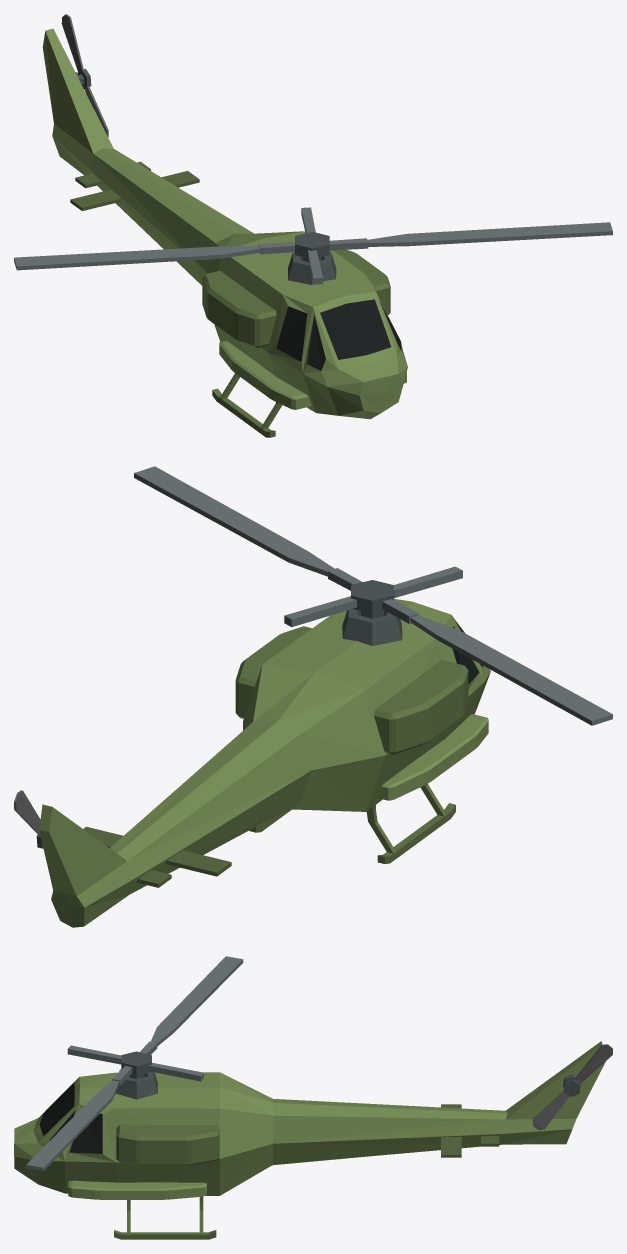
Rendered from Helicopter.FBX.
3 views of the same model, one above another, from view 1: azimuth 30°, elevation 25°; view 2: azimuth 150°, elevation 25°; view 3: azimuth 270°, elevation 25° (orthographic). The views are drawn at different scales.
Parts seen in each view (by area): view 1: Helicopter; view 2: Helicopter; view 3: Helicopter.
Part boxes in pixels (x1,y1,x2,y2): Helicopter: (14,14,612,437); Helicopter: (14,466,612,927); Helicopter: (14,956,612,1239).
Size of the model in its own units: 7.87 by 3.13 by 9.42.
Materials: 1 (1 with a texture image).
